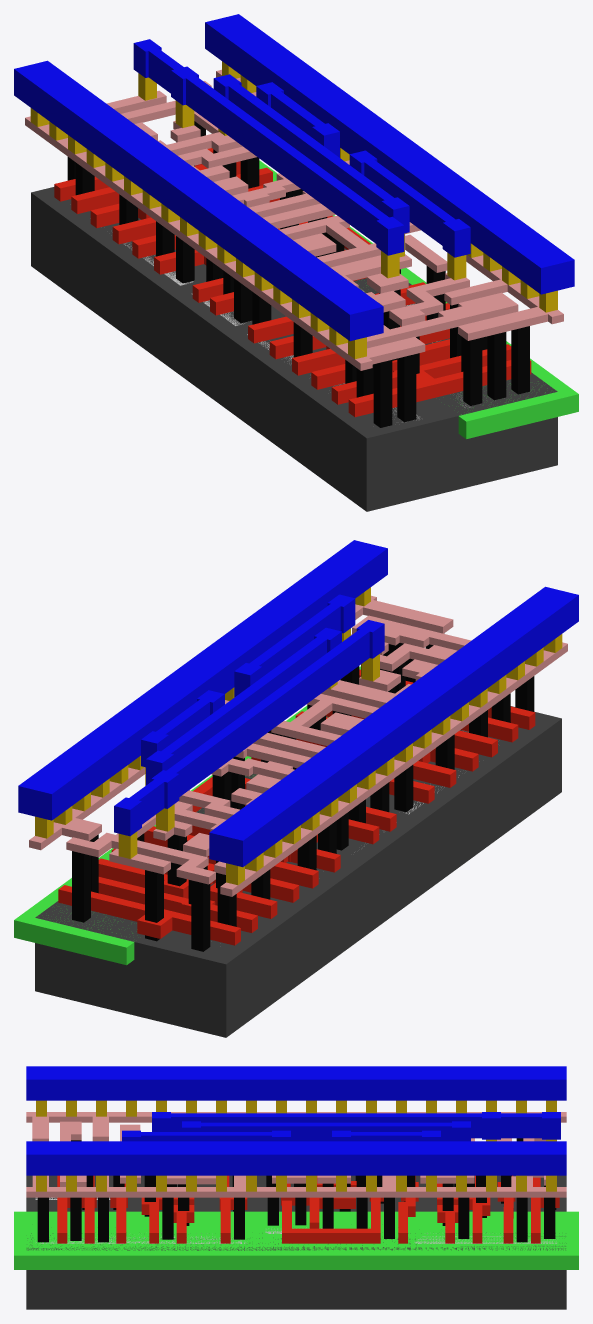
Rendered from sky130_fd_sc_hd__mux4_2.obj.
The picture shows the model from 3 angles, top to bottom: view 1: azimuth 30°, elevation 25°; view 2: azimuth 150°, elevation 25°; view 3: azimuth 270°, elevation 25°; orthographic projection. The views are drawn at different scales.
Visible parts, largest first — view 1: metal1, subs, li, licon, poly, mcon, nwell; view 2: metal1, subs, li, poly, licon, mcon, nwell; view 3: metal1, subs, nwell, li, poly, licon, mcon, tap.
Part boxes in pixels (box(x1,y1,x2,y2)): metal1: box(14, 14, 574, 341); subs: box(31, 187, 557, 511); li: box(25, 69, 563, 370); licon: box(67, 121, 529, 427); poly: box(54, 148, 531, 417); mcon: box(30, 61, 557, 359); nwell: box(259, 160, 578, 439); metal1: box(18, 540, 578, 867); subs: box(35, 706, 561, 1037); li: box(29, 595, 567, 896); poly: box(58, 669, 535, 945); licon: box(72, 633, 534, 951); mcon: box(35, 587, 562, 885); nwell: box(14, 666, 360, 965); metal1: box(26, 1066, 566, 1175); subs: box(26, 1175, 566, 1309); nwell: box(14, 1211, 578, 1269); li: box(26, 1112, 566, 1197); poly: box(57, 1175, 559, 1243); licon: box(37, 1138, 556, 1242); mcon: box(36, 1100, 556, 1191); tap: box(36, 1227, 556, 1243).
Bounding box in the file's own units: 3.2 × 2.74 × 8.66.
